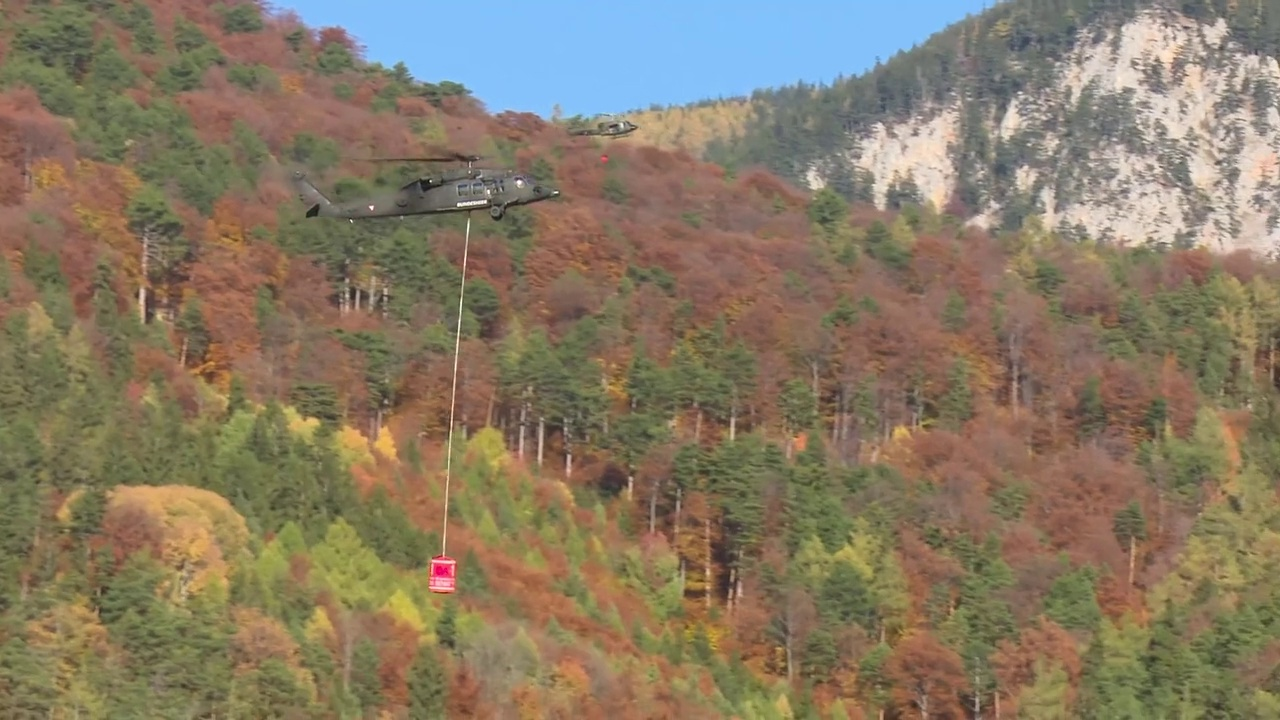heli: (292, 154, 560, 221), (565, 115, 638, 141)
